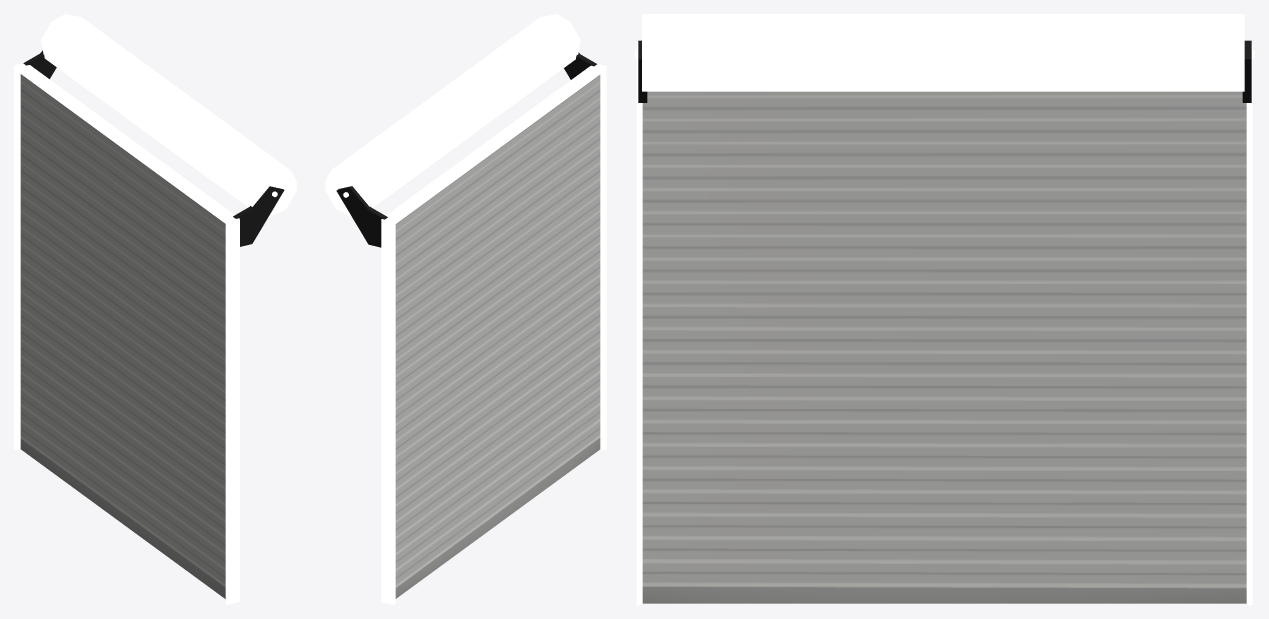
Rendered from RoolUpDoors.872a9d41.gltf.
3 renders of one model, left to right at view 1: azimuth 30°, elevation 25°; view 2: azimuth 150°, elevation 25°; view 3: azimuth 270°, elevation 25°, orthographic. The views are drawn at different scales.
Visible parts, largest first — view 1: Doors, shutte, trims, hinges Right, hinges Left; view 2: Doors, shutte, trims, hinges Left, hinges Right; view 3: Doors, shutte, trims.
Part boxes in pixels (x1,y1,x2,y2): Doors: (20,74,225,598); shutte: (41,14,296,217); trims: (14,63,239,604); hinges Right: (233,186,284,246); hinges Left: (23,50,56,78); Doors: (395,75,600,598); shutte: (325,14,580,216); trims: (381,63,606,604); hinges Left: (336,186,387,247); hinges Right: (564,52,596,79); Doors: (642,91,1246,603); shutte: (642,14,1244,91); trims: (636,43,1252,604).
Bounding box in the file's own units: 1.17 × 6.66 × 6.1.
6 materials, 1 textured.
